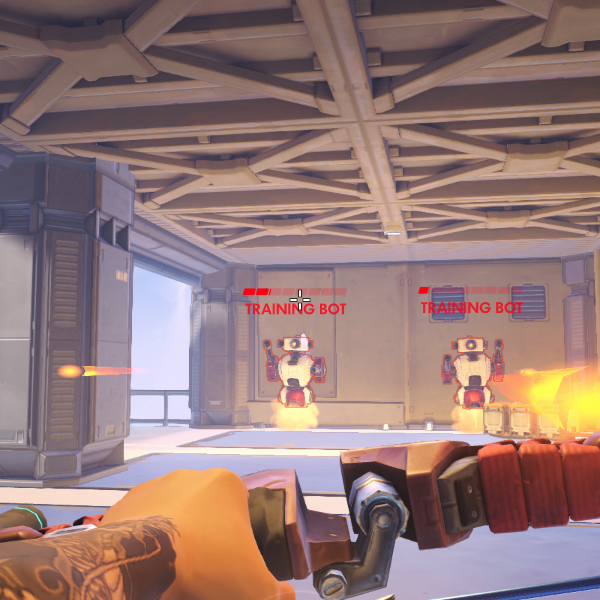hpbar: (243, 287, 347, 296), (418, 287, 524, 294)
